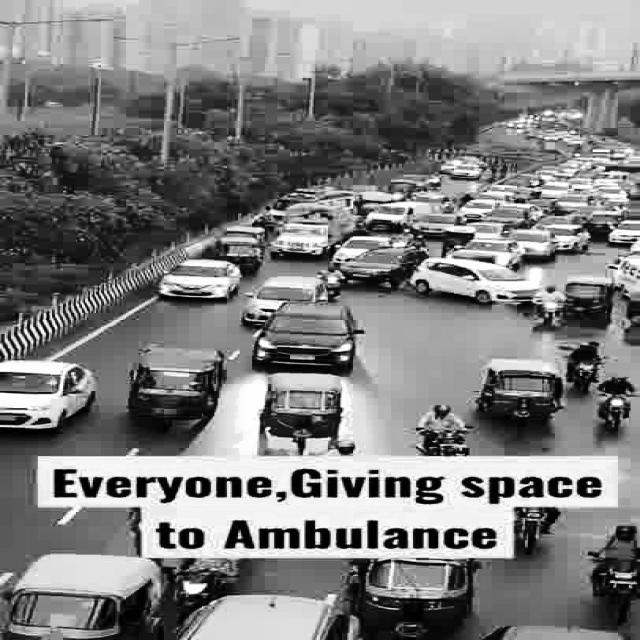Ambulance: (265, 186, 353, 222)
